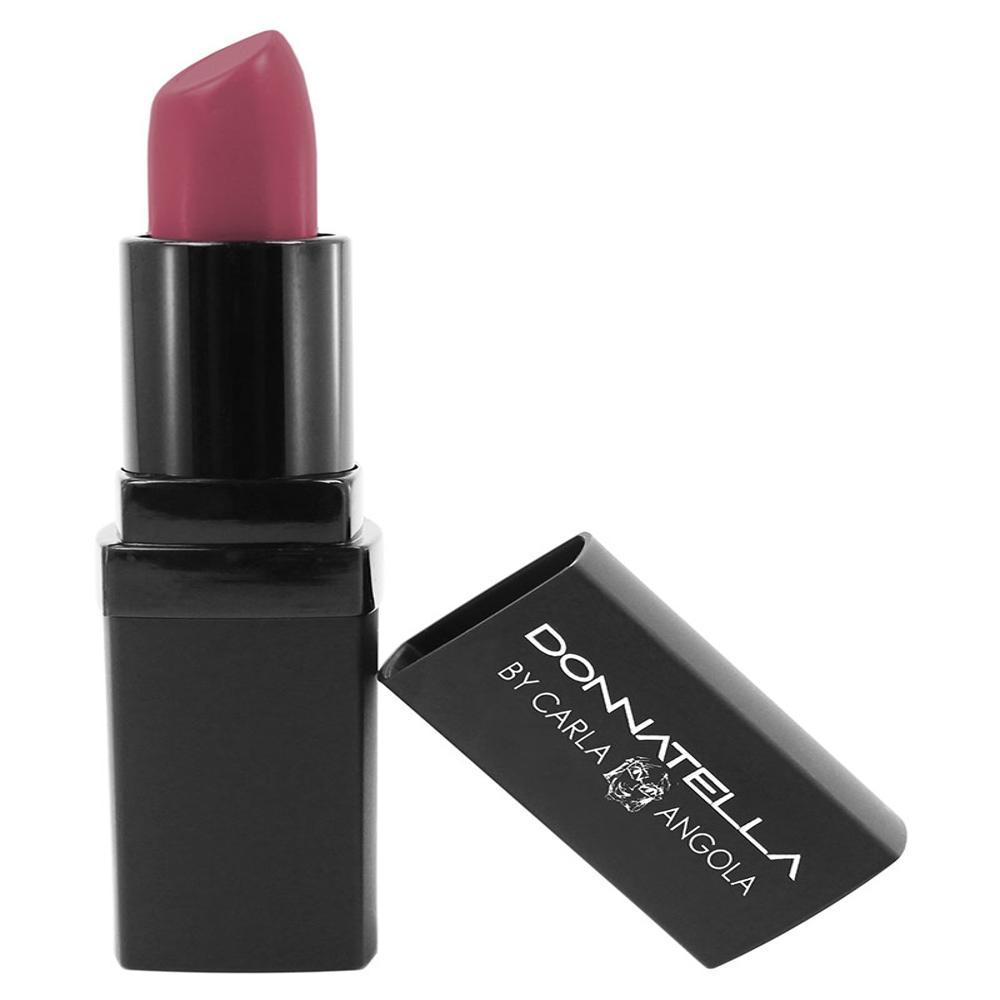lipstick: (121, 14, 394, 1000)
